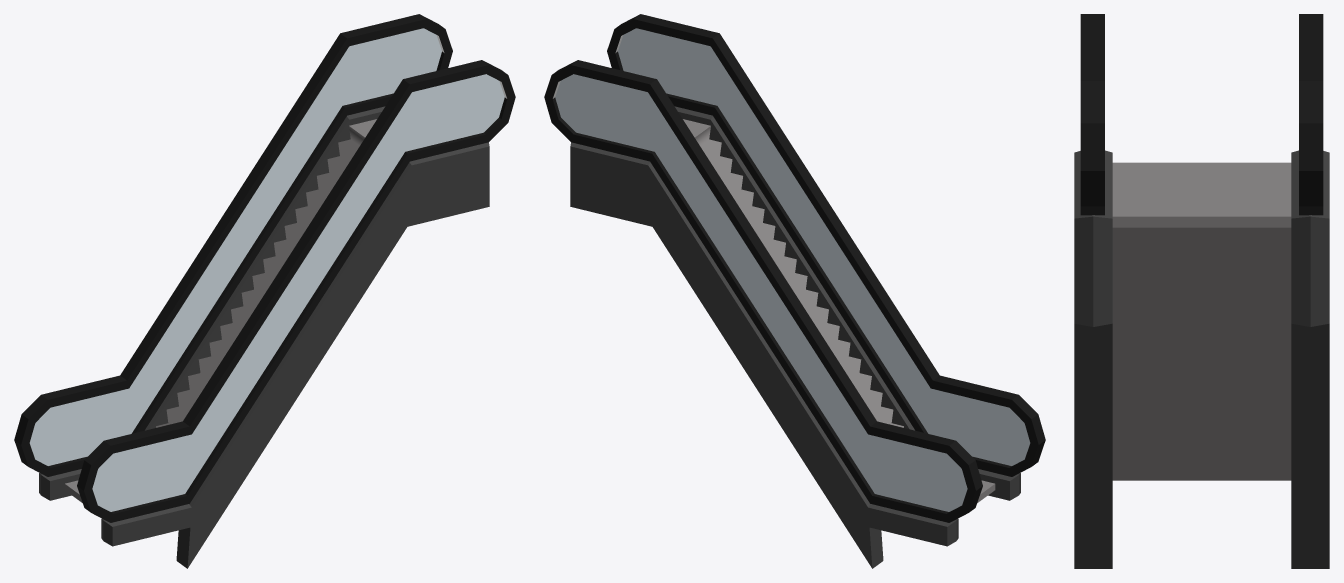
Rendered from Escalator.FBX.
3 views of the same model, side by side, from view 1: azimuth 30°, elevation 25°; view 2: azimuth 150°, elevation 25°; view 3: azimuth 270°, elevation 25° (orthographic). The views are drawn at different scales.
Parts seen in each view (by area): view 1: Escalator; view 2: Escalator; view 3: Escalator.
Boxes of the visible parts, x1,y1,x2,y2 form: Escalator: [14, 14, 515, 568]; Escalator: [544, 14, 1045, 568]; Escalator: [1074, 14, 1329, 568].
Bounding box in the file's own units: 236 × 224 × 69.63.
Materials: 1 (1 with a texture image).
